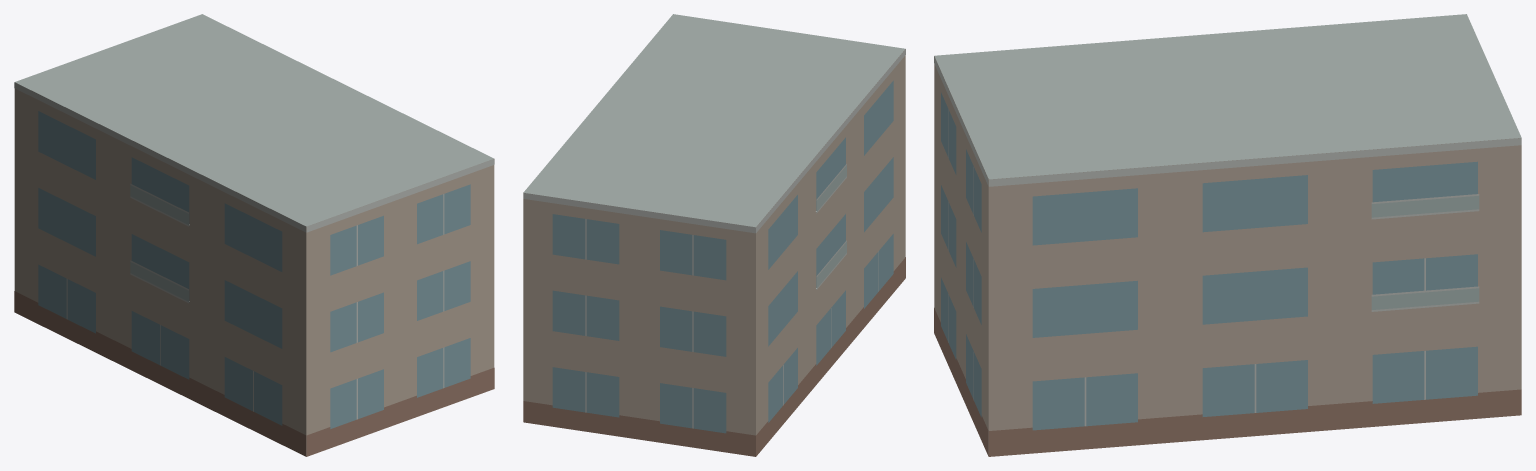
File: survey-upis-32707331.glb
The picture shows the model from 3 angles, left to right: view 1: azimuth 30°, elevation 25°; view 2: azimuth 150°, elevation 25°; view 3: azimuth 270°, elevation 25°; orthographic projection. The views are drawn at different scales.
Parts seen in each view (by area): view 1: survey-upis-32707331.tmp; view 2: survey-upis-32707331.tmp; view 3: survey-upis-32707331.tmp.
Boxes of the visible parts, <box> form: survey-upis-32707331.tmp: <box>14,14,494,456</box>; survey-upis-32707331.tmp: <box>523,14,905,456</box>; survey-upis-32707331.tmp: <box>934,14,1521,456</box>.
Bounding box in the file's own units: 11.71 × 9.15 × 17.57.
